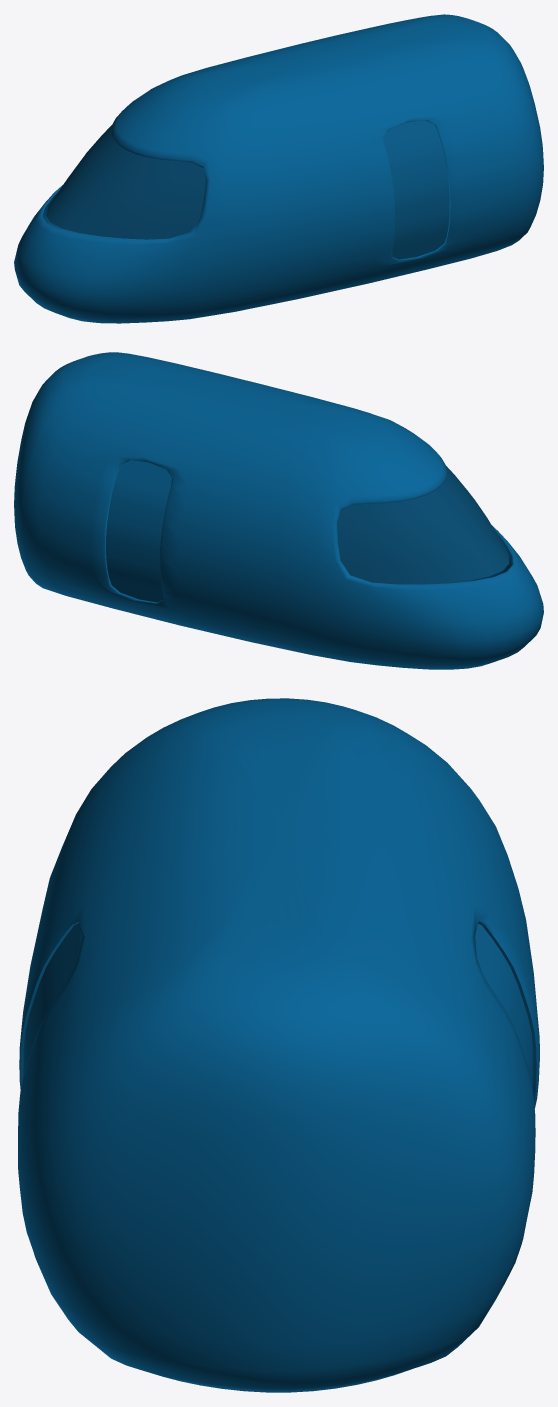
File: train_back.gltf
3 renders of one model, top to bottom at view 1: azimuth 30°, elevation 25°; view 2: azimuth 150°, elevation 25°; view 3: azimuth 270°, elevation 25°, orthographic. The views are drawn at different scales.
Parts seen in each view (by area): view 1: Sphere.002; view 2: Sphere.002; view 3: Sphere.002.
Boxes of the visible parts, box(x1,y1,x2,y2) form: Sphere.002: box(14, 14, 543, 323); Sphere.002: box(14, 352, 543, 669); Sphere.002: box(18, 698, 539, 1392).
Bounding box in the file's own units: 6.46 × 2.5 × 2.96.
